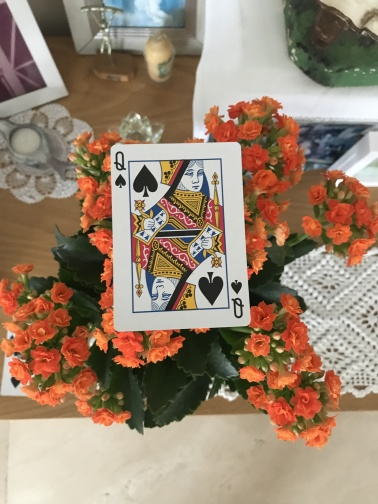queen: (110, 142, 252, 333)
